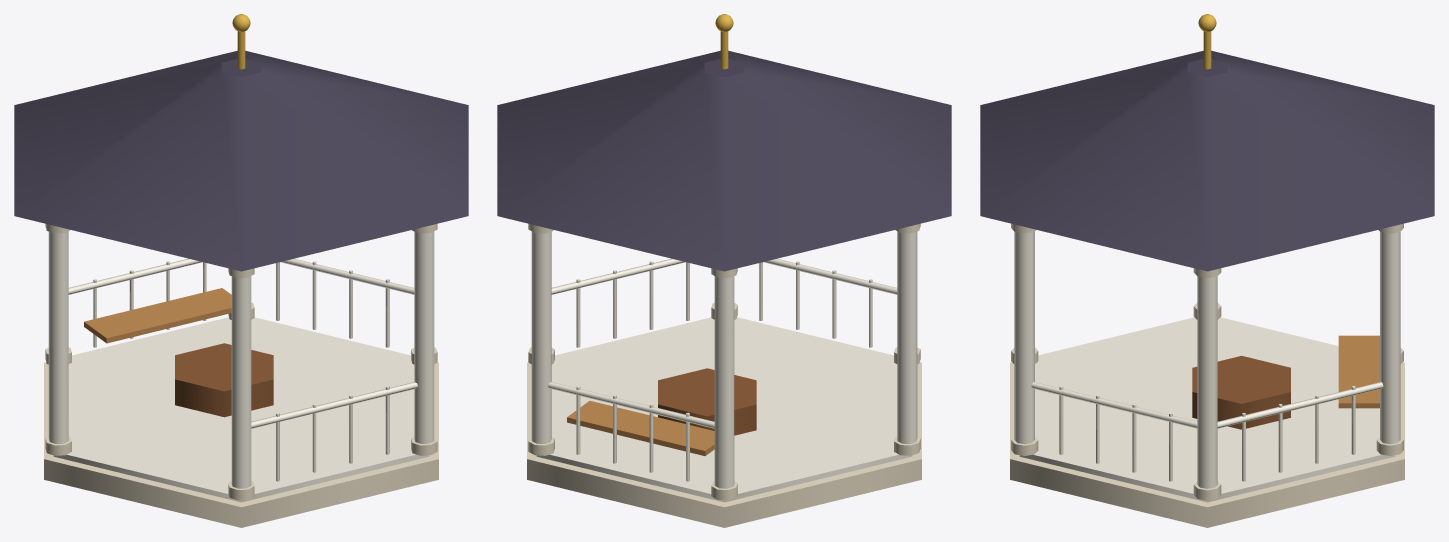
File: gazebo.glb
3 renders of one model, left to right at view 1: azimuth 30°, elevation 25°; view 2: azimuth 150°, elevation 25°; view 3: azimuth 270°, elevation 25°, orthographic.
Parts seen in each view (by area): view 1: root; view 2: root; view 3: root.
Part boxes in pixels (x1=…): root: x1=14, y1=14, x2=468, y2=527; root: x1=497, y1=14, x2=951, y2=527; root: x1=980, y1=14, x2=1434, y2=527.
Bounding box in the file's own units: 4.6 × 4.03 × 3.98.
